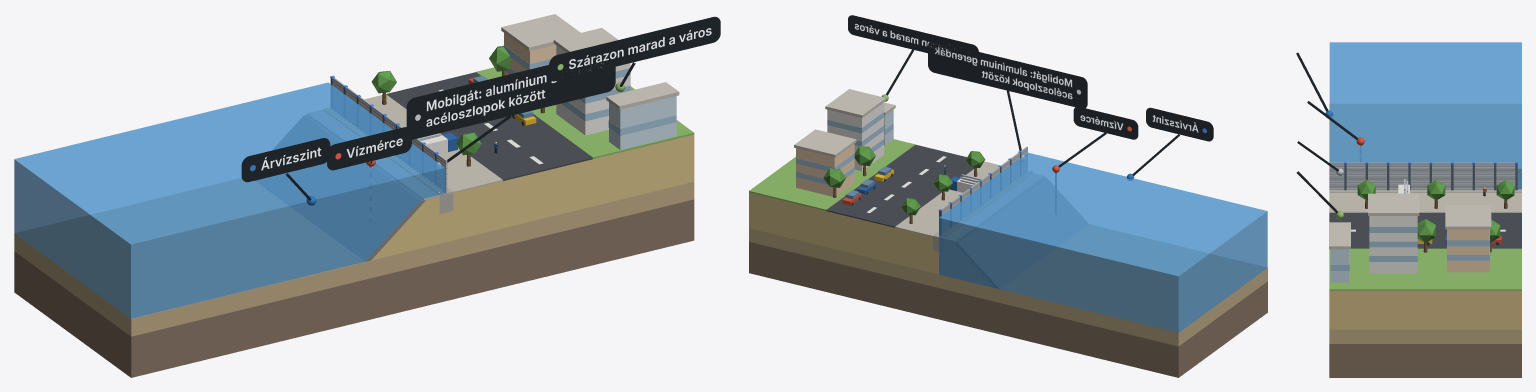
The model's file is mobilgat-feliratok.glb.
The picture shows the model from 3 angles, left to right: view 1: azimuth 30°, elevation 25°; view 2: azimuth 150°, elevation 25°; view 3: azimuth 270°, elevation 25°; orthographic projection. The views are drawn at different scales.
Visible parts, largest first — view 1: folyo, part_m_c9b48c, part_m_8f7a68, part_m_e0c98f, part_m_8c8a86, label_0, part_m_4a4e55, label_6, part_m_cfcac0, part_m_c9c4b8, part_m_cfe3ef, label_3 (+6 smaller); view 2: folyo, part_m_c9b48c, part_m_8f7a68, part_m_e0c98f, part_m_8c8a86, label_0, part_m_4a4e55, part_m_8fbf6a, part_m_c9c4b8, part_m_cfcac0, label_6, part_m_f4f3ef (+5 smaller); view 3: folyo, part_m_c9b48c, part_m_e0c98f, part_m_8f7a68, part_m_8fbf6a, g_m_c0c7cf (×7), part_m_cfcac0, g_m_aeb6bf (×6), part_m_4a4e55, part_m_c9c4b8, part_m_f4f3ef, part_m_a9c8de (+5 smaller).
Boxes of the visible parts, bbox=[...] form: folyo: bbox=[14, 82, 445, 318]; part_m_c9b48c: bbox=[14, 178, 694, 336]; part_m_8f7a68: bbox=[14, 199, 694, 377]; part_m_e0c98f: bbox=[371, 134, 694, 260]; part_m_8c8a86: bbox=[256, 115, 425, 261]; label_0: bbox=[406, 51, 615, 139]; part_m_4a4e55: bbox=[386, 72, 592, 180]; label_6: bbox=[549, 16, 720, 81]; part_m_cfcac0: bbox=[501, 14, 679, 109]; part_m_c9c4b8: bbox=[307, 94, 502, 200]; part_m_cfe3ef: bbox=[609, 96, 676, 149]; label_3: bbox=[241, 138, 330, 182]; folyo: bbox=[939, 152, 1267, 332]; part_m_c9b48c: bbox=[749, 224, 1267, 346]; part_m_8f7a68: bbox=[749, 242, 1267, 377]; part_m_e0c98f: bbox=[749, 192, 993, 287]; part_m_8c8a86: bbox=[955, 178, 1087, 288]; label_0: bbox=[928, 40, 1087, 108]; part_m_4a4e55: bbox=[826, 144, 974, 227]; part_m_8fbf6a: bbox=[749, 139, 915, 210]; part_m_c9c4b8: bbox=[895, 161, 1043, 241]; part_m_cfcac0: bbox=[794, 89, 895, 157]; label_6: bbox=[848, 15, 978, 60]; part_m_f4f3ef: bbox=[827, 102, 1056, 213]; folyo: bbox=[1329, 42, 1521, 189]; part_m_c9b48c: bbox=[1329, 104, 1521, 343]; part_m_e0c98f: bbox=[1329, 290, 1521, 329]; part_m_8f7a68: bbox=[1329, 344, 1521, 377]; part_m_8fbf6a: bbox=[1329, 248, 1521, 290]; g_m_c0c7cf (×7): bbox=[1329, 162, 1515, 189]; part_m_cfcac0: bbox=[1329, 193, 1491, 249]; g_m_aeb6bf (×6): bbox=[1329, 165, 1515, 187]; part_m_4a4e55: bbox=[1329, 212, 1521, 248]; part_m_c9c4b8: bbox=[1329, 181, 1521, 212]; part_m_f4f3ef: bbox=[1351, 145, 1505, 273]; part_m_a9c8de: bbox=[1330, 227, 1489, 270].
Bounding box in the file's own units: 0.5062 × 0.202 × 0.2111.
Materials: 46 (4 with a texture image).
